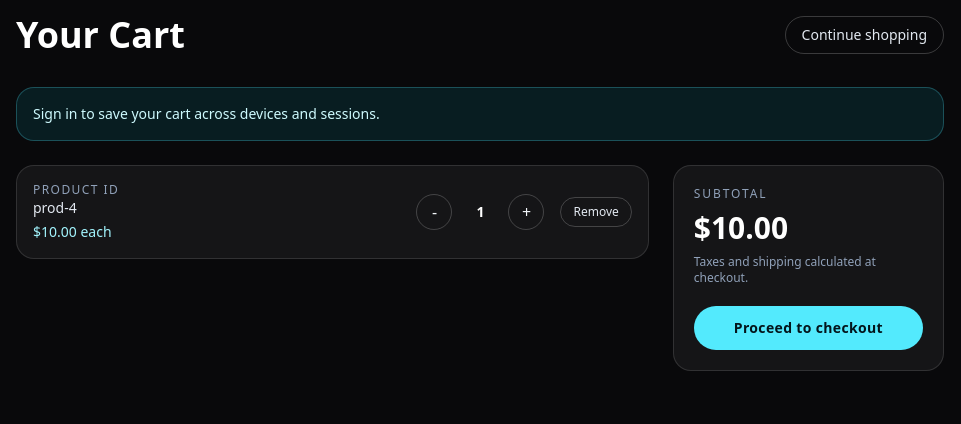
Test: CartClient › prevents duplicate quantity update requests while a mutation is pending
Click the button "+".
click(526, 212)  # box x1=508 y1=194 x2=544 y2=230
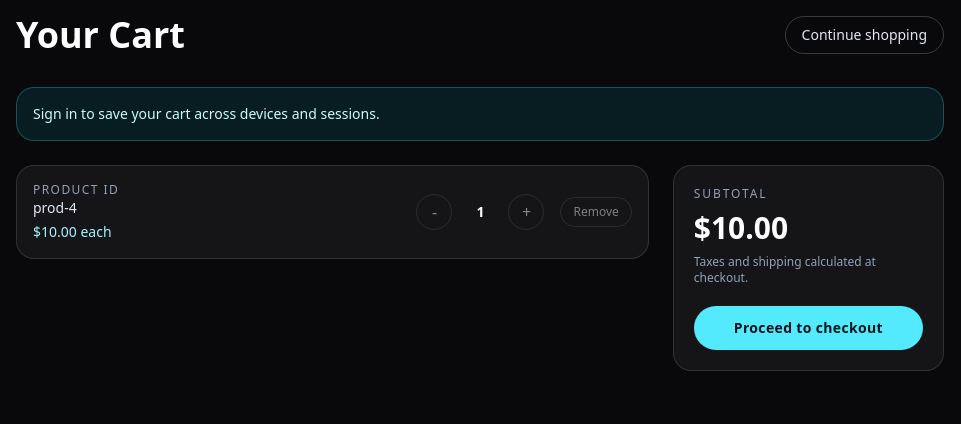
Click the button "+".
click(526, 212)  # box x1=508 y1=194 x2=544 y2=230
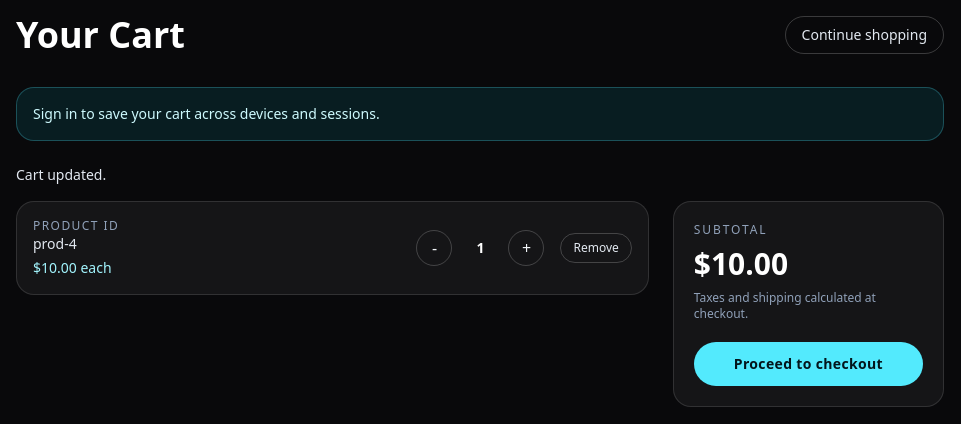
Now the text "Cart updated." is shown, box x1=16 y1=165 x2=106 y2=184
